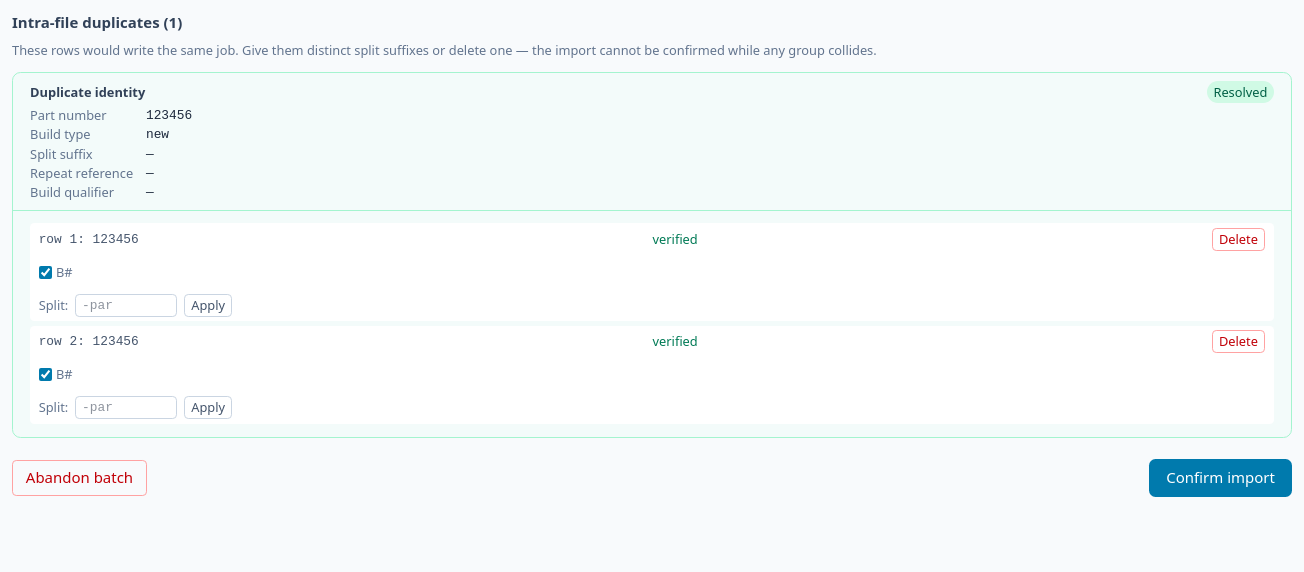
BatchReviewPanel — Patch 06 confirm guard and refusal › a 409 identity_collision replaces the section and names the unresolved count
Click the button "Confirm import": (1221, 478) [1149,459,1292,497]
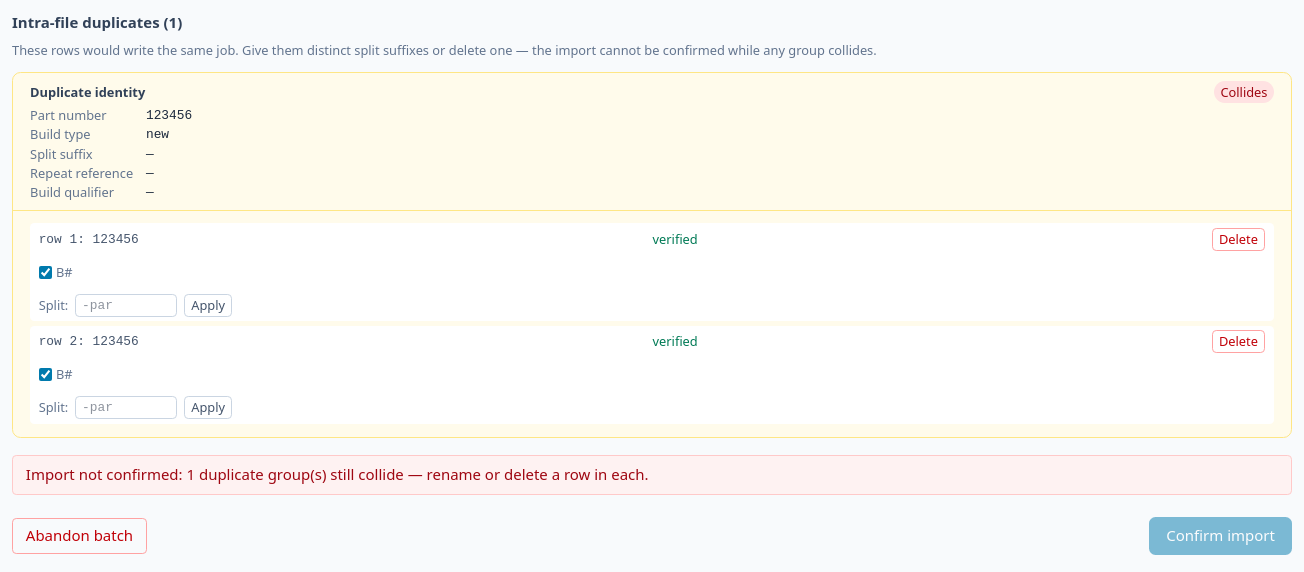
Result: the text with test id "duplicate-group-state" reads "Collides" at [1220,83,1268,101]
Result: the message shows "Import not confirmed: 1 duplicate group(s) still collide — rename or delete a row in each." at [26,464,648,484]
Result: the button "Confirm import" is disabled at [1149,516,1292,555]
